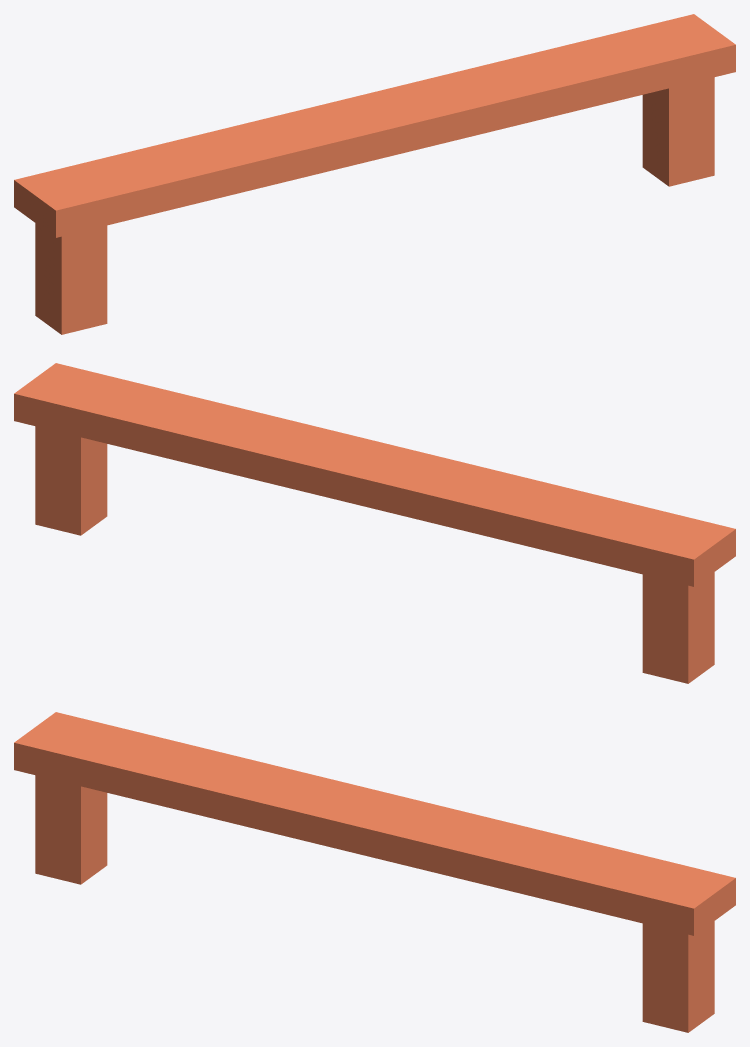
File: fence-simple-low.glb
3 renders of one model, top to bottom at view 1: azimuth 30°, elevation 25°; view 2: azimuth 150°, elevation 25°; view 3: azimuth 330°, elevation 25°, orthographic.
Parts seen in each view (by area): view 1: fence_simpleLow; view 2: fence_simpleLow; view 3: fence_simpleLow.
Boxes of the visible parts, bbox=[...] form: fence_simpleLow: bbox=[14, 14, 735, 334]; fence_simpleLow: bbox=[14, 363, 735, 683]; fence_simpleLow: bbox=[14, 712, 735, 1032].
Bounding box in the file's own units: 1.04 × 0.195 × 0.1112.
